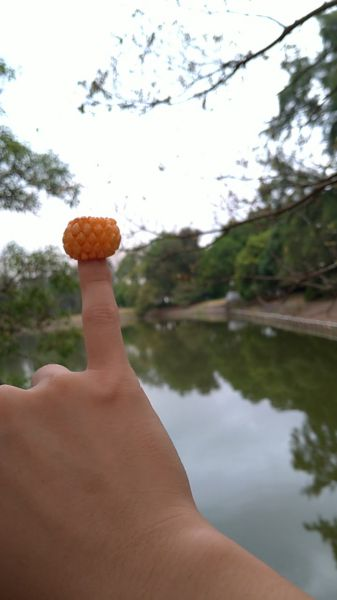eggs: (61, 214, 123, 262)
